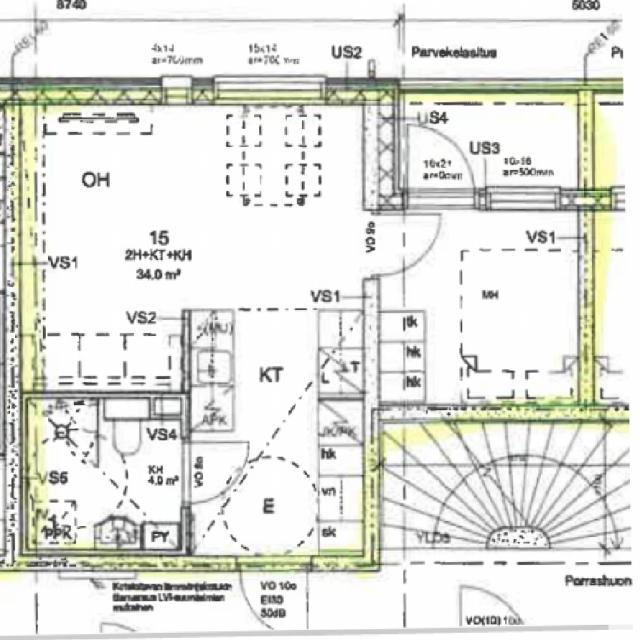door: (408, 124, 474, 210), (240, 556, 307, 638), (364, 214, 440, 275), (182, 442, 250, 504)
